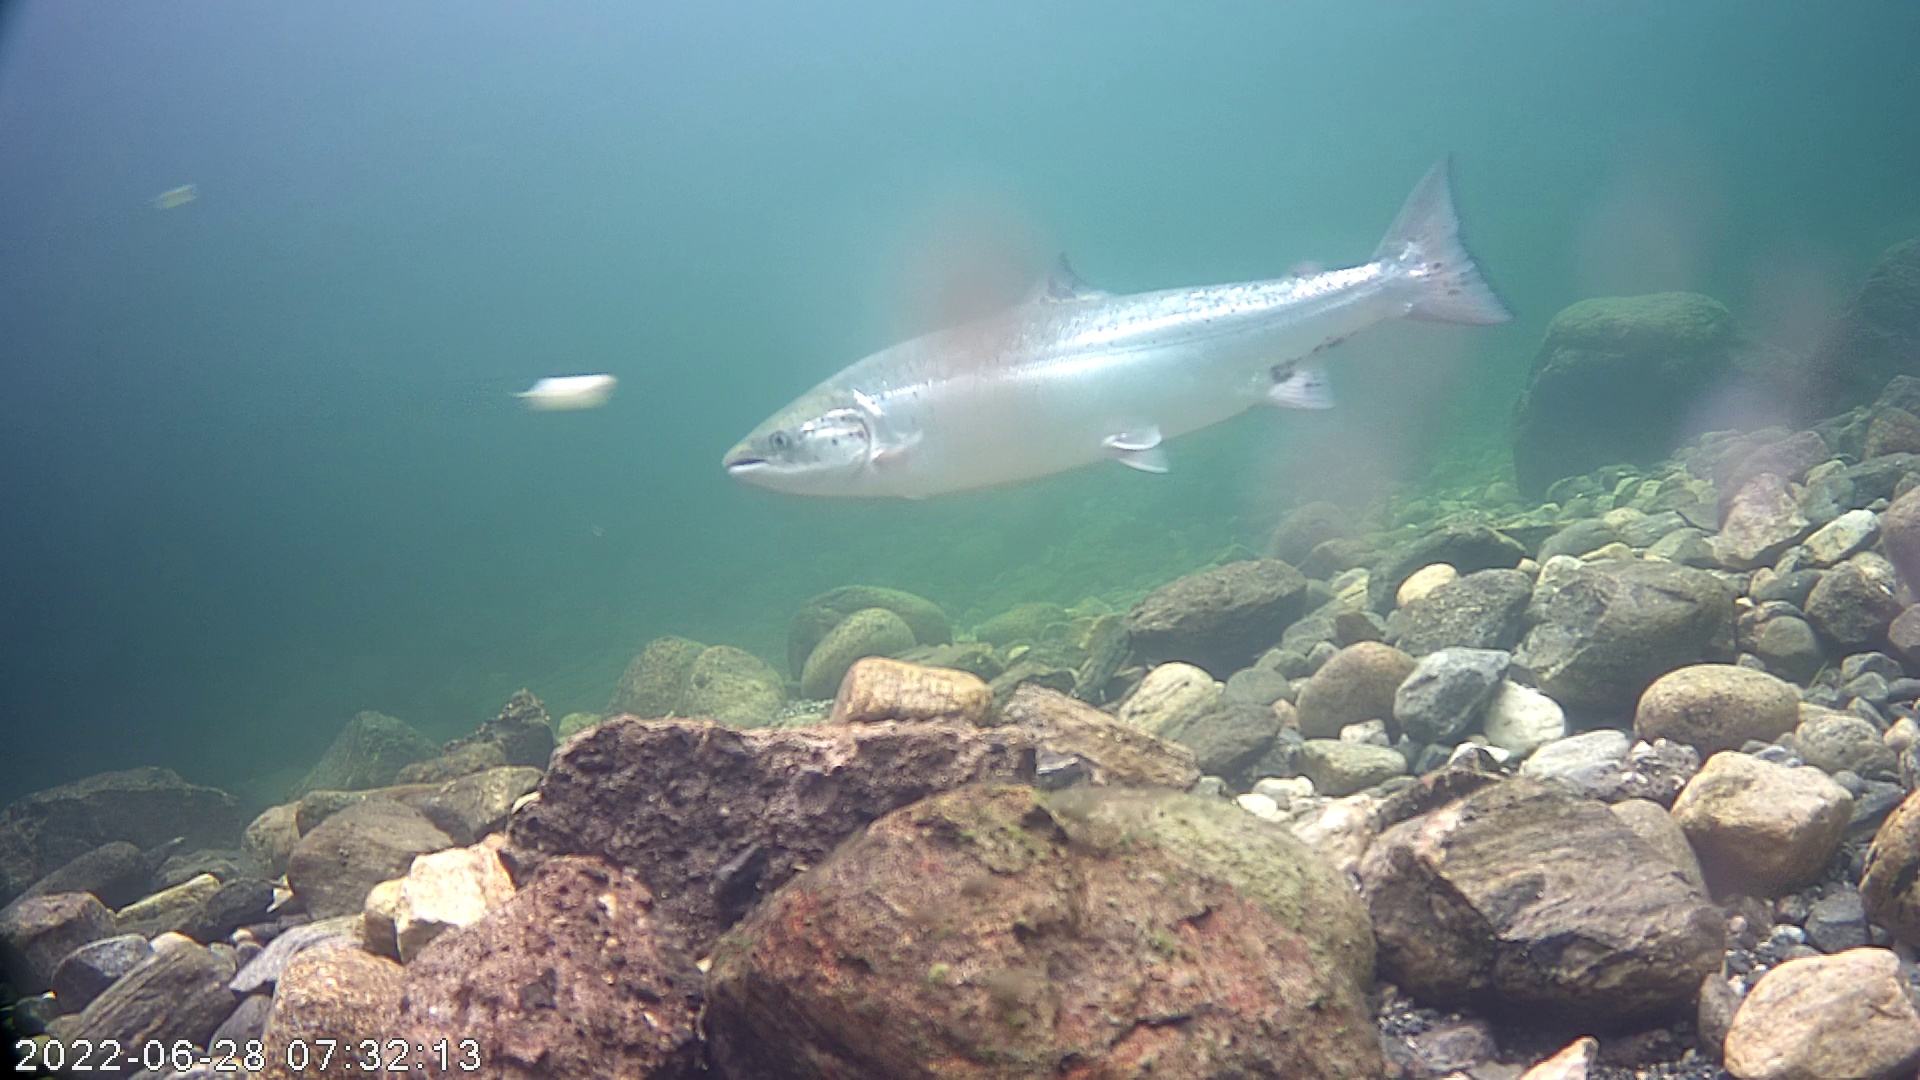salmon: (702, 115, 1548, 556)
